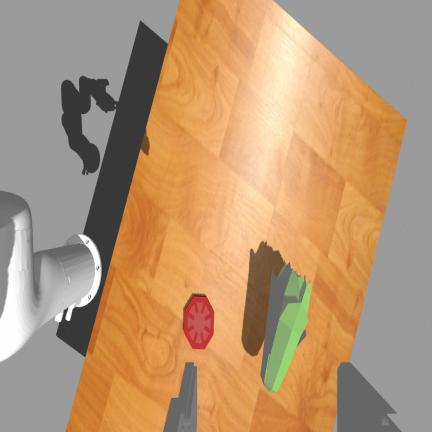lettuce: (261, 263, 311, 392)
sliced_tomato: (185, 296, 214, 348)
